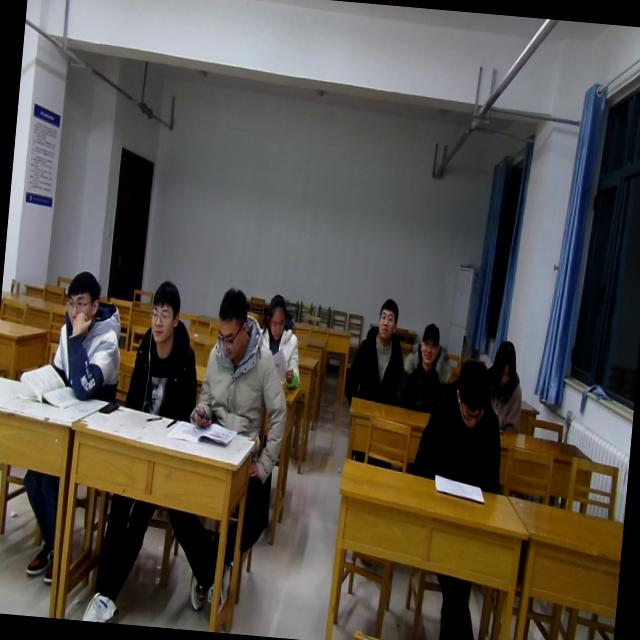down: (447, 352, 494, 437), (211, 282, 254, 361), (486, 334, 522, 396), (262, 288, 292, 342)
lookup: (60, 263, 104, 335), (144, 274, 185, 348), (413, 314, 444, 368), (370, 289, 400, 343)
sit: (188, 283, 298, 441), (410, 354, 510, 494), (122, 276, 207, 422), (46, 262, 130, 402), (342, 294, 411, 408), (397, 317, 460, 413), (253, 288, 307, 392), (480, 338, 530, 434)
